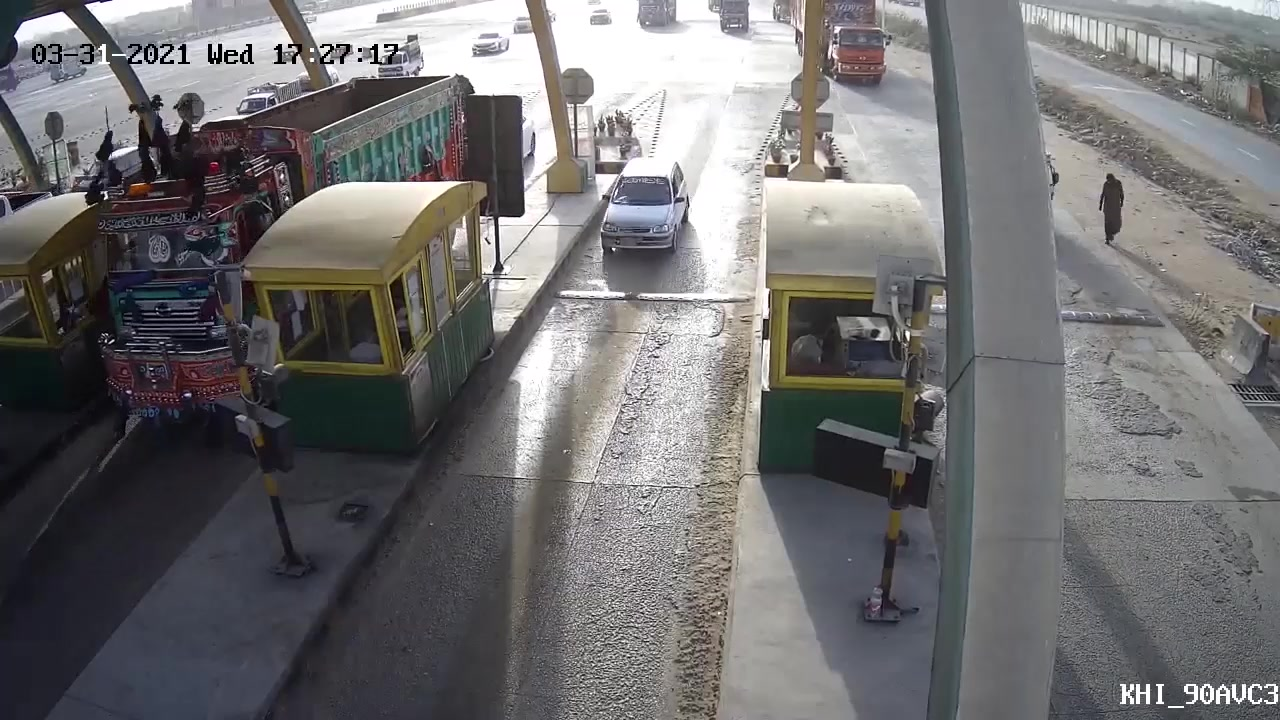F1: (583, 151, 700, 269)
